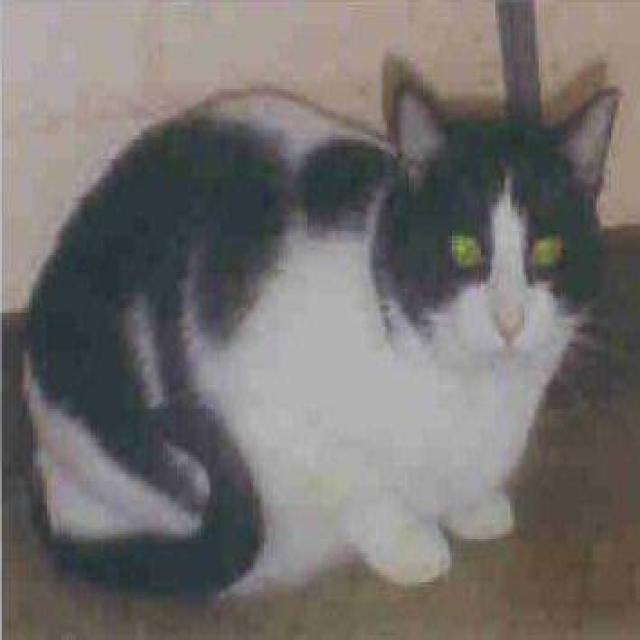Kucing: (9, 55, 606, 614)
